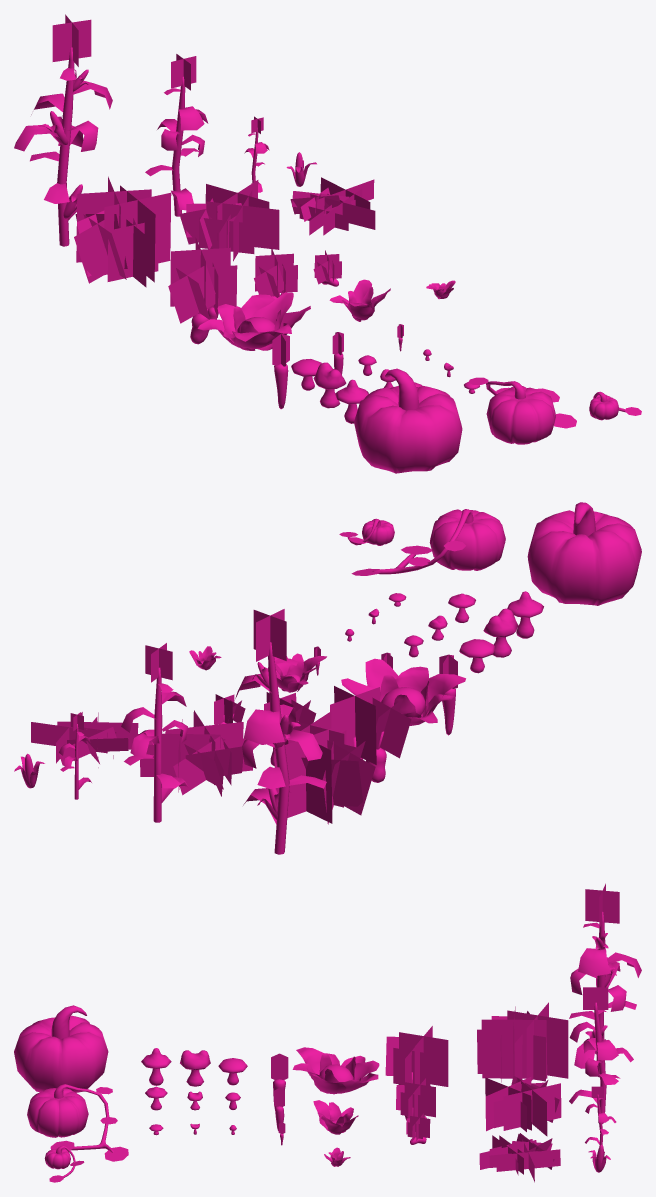
Rendered from Crops.fbx.
The picture shows the model from 3 angles, top to bottom: view 1: azimuth 30°, elevation 25°; view 2: azimuth 150°, elevation 25°; view 3: azimuth 270°, elevation 25°; orthographic projection. The views are drawn at different scales.
Visible parts, largest first — view 1: Pumpkin, Potato.004, Mais, Potato.005, Potato.001, Pumpkin.002, Mais.004, Mais.001, Potato.006, Potato.002, Mais.005, Carrot (+4 smaller); view 2: Pumpkin, Mais, Potato.004, Potato.005, Pumpkin.002, Potato.001, Mais.004, Mais.001, Potato.006, Mais.005, Frog Shroom, Pumpkin.001 (+6 smaller); view 3: Pumpkin, Potato.004, Mais, Pumpkin.002, Potato.005, Potato.001, Mais.004, Mais.001, Potato.006, Potato.002, Mais.005, Frog Shroom (+6 smaller).
Part boxes in pixels (<box>): Pumpkin: <box>354,368,462,473</box>; Potato.004: <box>74,176,171,287</box>; Mais: <box>14,14,112,246</box>; Potato.005: <box>179,180,279,261</box>; Potato.001: <box>168,237,237,344</box>; Pumpkin.002: <box>468,377,576,444</box>; Mais.004: <box>197,292,310,350</box>; Mais.001: <box>145,54,208,216</box>; Potato.006: <box>290,177,375,235</box>; Potato.002: <box>254,247,297,299</box>; Mais.005: <box>329,279,390,321</box>; Carrot: <box>272,334,289,409</box>; Pumpkin: <box>527,502,641,605</box>; Mais: <box>235,609,326,854</box>; Potato.004: <box>274,711,375,824</box>; Potato.005: <box>140,710,252,796</box>; Pumpkin.002: <box>351,509,505,575</box>; Potato.001: <box>330,686,411,782</box>; Mais.004: <box>341,658,465,725</box>; Mais.001: <box>121,643,189,822</box>; Potato.006: <box>31,712,138,767</box>; Mais.005: <box>264,653,326,692</box>; Frog Shroom: <box>483,608,518,657</box>; Pumpkin.001: <box>339,518,394,545</box>; Pumpkin: <box>14,1005,108,1092</box>; Potato.004: <box>477,1002,568,1082</box>; Mais: <box>569,883,641,1077</box>; Pumpkin.002: <box>27,1084,128,1161</box>; Potato.005: <box>485,1076,561,1136</box>; Potato.001: <box>385,1026,448,1086</box>; Mais.004: <box>292,1047,379,1094</box>; Mais.001: <box>569,987,633,1123</box>; Potato.006: <box>479,1133,560,1182</box>; Potato.002: <box>396,1078,435,1120</box>; Mais.005: <box>313,1100,358,1134</box>; Frog Shroom: <box>180,1050,210,1086</box>.
Bounding box in the file's own units: 321 × 248 × 644.
